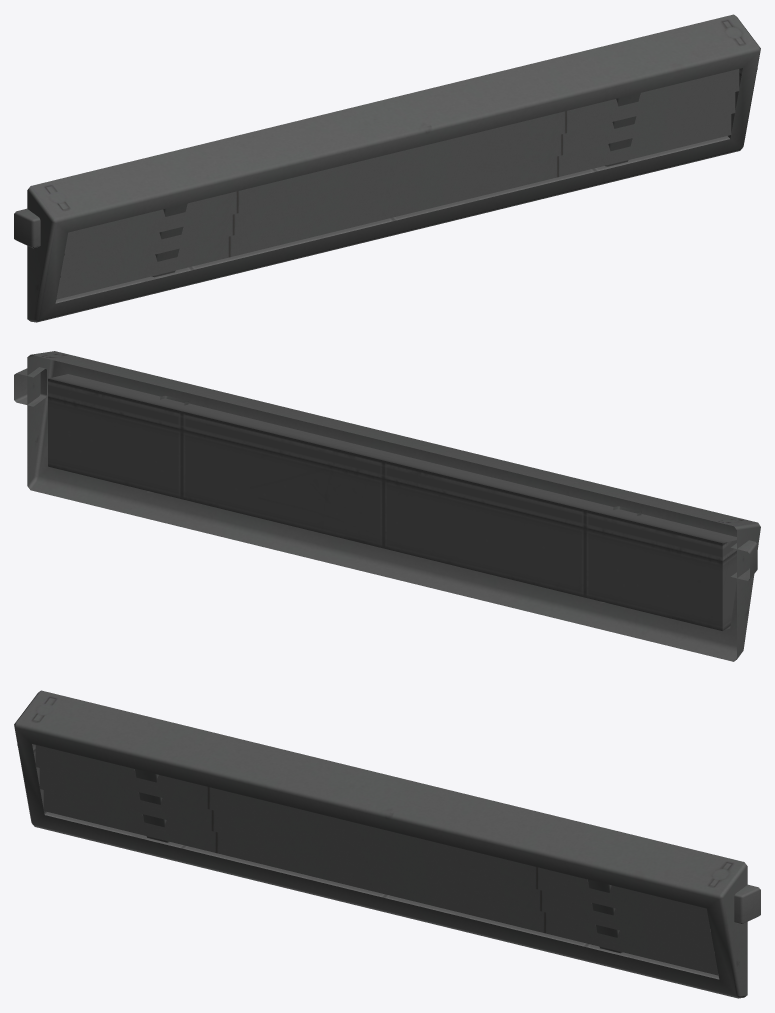
File: Subway_Vents6.fbx
The picture shows the model from 3 angles, top to bottom: view 1: azimuth 30°, elevation 25°; view 2: azimuth 150°, elevation 25°; view 3: azimuth 330°, elevation 25°; orthographic projection.
Parts seen in each view (by area): view 1: polySurface1582; view 2: polySurface1582; view 3: polySurface1582.
Part boxes in pixels (box(x1,y1,x2,y2)): polySurface1582: box(14, 14, 760, 322); polySurface1582: box(14, 351, 760, 661); polySurface1582: box(14, 690, 760, 998).
Bounding box in the file's own units: 103 × 18.09 × 6.24.
